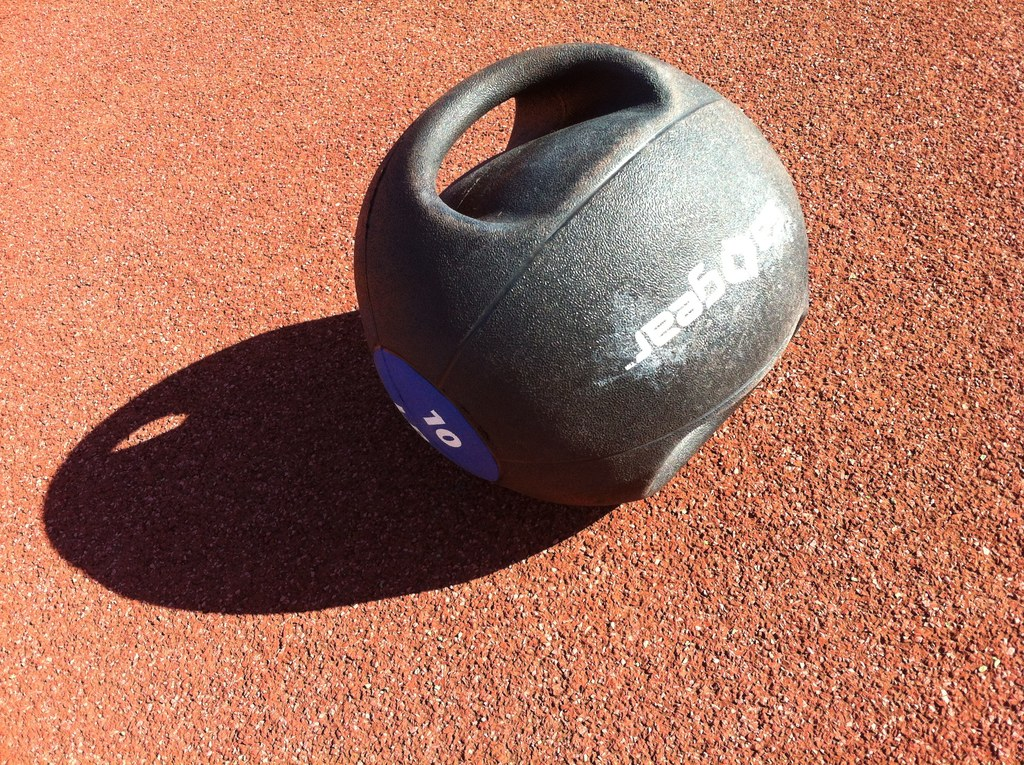Ball: (351, 42, 812, 512)
